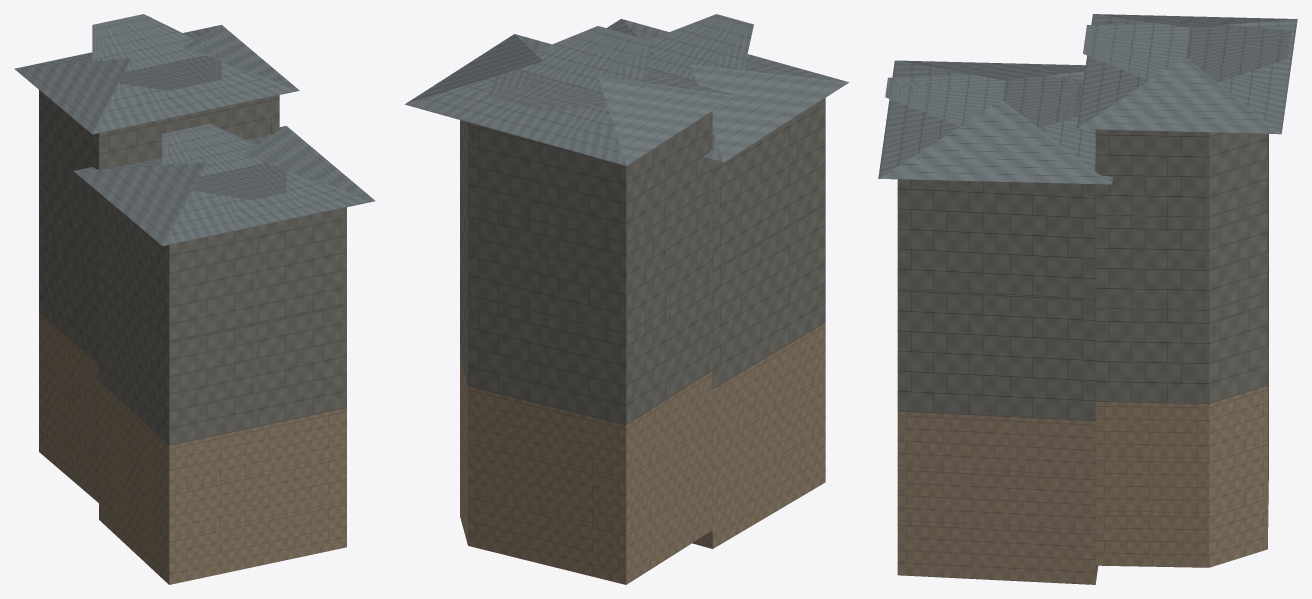
Rendered from bld_c3_17_464.gltf.
3 views of the same model, side by side, from view 1: azimuth 30°, elevation 25°; view 2: azimuth 150°, elevation 25°; view 3: azimuth 270°, elevation 25° (orthographic). The views are drawn at different scales.
Visible parts, largest first — view 1: bld_c3_17_464; view 2: bld_c3_17_464; view 3: bld_c3_17_464.
Part boxes in pixels (x1=…): bld_c3_17_464: x1=14, y1=14, x2=375, y2=584; bld_c3_17_464: x1=405, y1=14, x2=848, y2=584; bld_c3_17_464: x1=878, y1=14, x2=1297, y2=584.
Bounding box in the file's own units: 8.57 × 15.4 × 11.82.
Materials: 3 (3 with a texture image).
